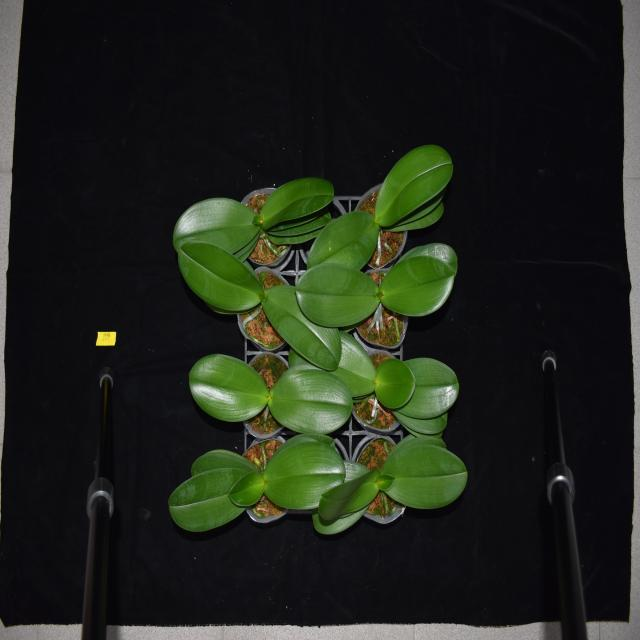leaf: (170, 448, 262, 530), (379, 138, 454, 233), (262, 286, 341, 367), (168, 193, 258, 260), (371, 448, 468, 510), (179, 246, 262, 315), (187, 353, 269, 422), (381, 246, 458, 317), (271, 368, 353, 430), (262, 447, 344, 508), (297, 262, 382, 320), (257, 178, 332, 240), (306, 206, 376, 266), (385, 358, 458, 415), (376, 354, 415, 410), (226, 467, 263, 507)
